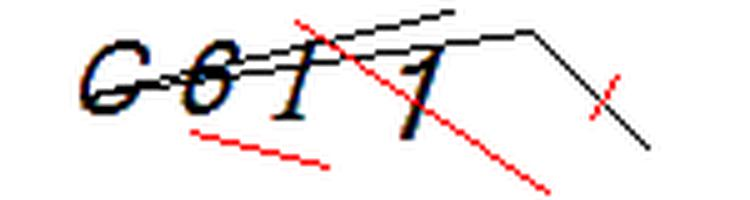1: (382, 42, 460, 147), (268, 33, 323, 129)
6: (176, 30, 246, 123)
C: (70, 30, 163, 122)
